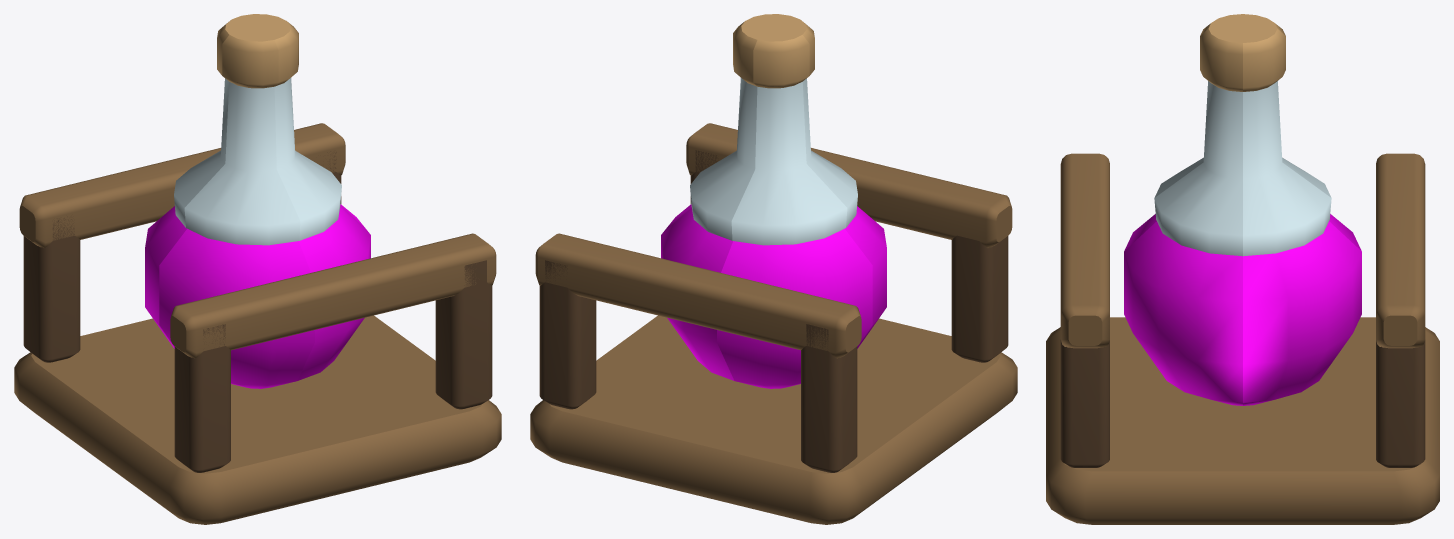
File: objet_science_1.glb
The picture shows the model from 3 angles, left to right: view 1: azimuth 30°, elevation 25°; view 2: azimuth 150°, elevation 25°; view 3: azimuth 270°, elevation 25°; orthographic projection. The views are drawn at different scales.
Parts seen in each view (by area): view 1: science_bois.002, science_bois_sombre.002, science_verre_flacon.010, science_teinte.012, science_liege.002; view 2: science_bois.002, science_bois_sombre.002, science_verre_flacon.010, science_teinte.012, science_liege.002; view 3: science_bois.002, science_teinte.012, science_verre_flacon.010, science_bois_sombre.002, science_liege.002.
Boxes of the visible parts, <box> form: science_bois.002: <box>14,123,501,524</box>; science_bois_sombre.002: <box>23,151,492,472</box>; science_verre_flacon.010: <box>174,78,341,245</box>; science_teinte.012: <box>145,204,370,388</box>; science_liege.002: <box>217,14,298,88</box>; science_bois.002: <box>530,123,1017,524</box>; science_bois_sombre.002: <box>539,150,1008,472</box>; science_verre_flacon.010: <box>690,78,857,245</box>; science_teinte.012: <box>661,204,886,388</box>; science_liege.002: <box>733,14,814,88</box>; science_bois.002: <box>1046,153,1439,524</box>; science_teinte.012: <box>1124,214,1361,405</box>; science_verre_flacon.010: <box>1154,81,1331,256</box>; science_bois_sombre.002: <box>1060,340,1425,467</box>; science_liege.002: <box>1200,14,1285,91</box>.
Size of the model in its own units: 0.2 by 0.235 by 0.2.
